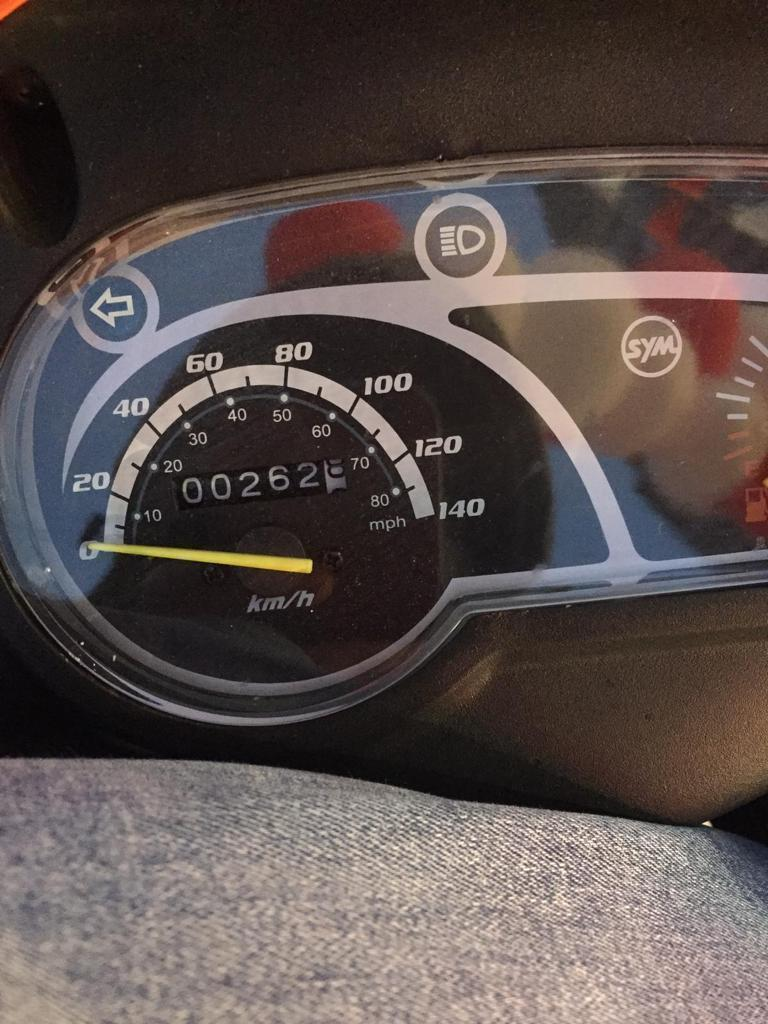0: (208, 472, 233, 501), (180, 476, 204, 504), (173, 458, 183, 472)
2: (295, 460, 321, 489), (238, 469, 263, 499), (166, 459, 173, 473)
6: (266, 463, 292, 492)
8: (324, 456, 348, 479)
odometer: (166, 454, 351, 514)
